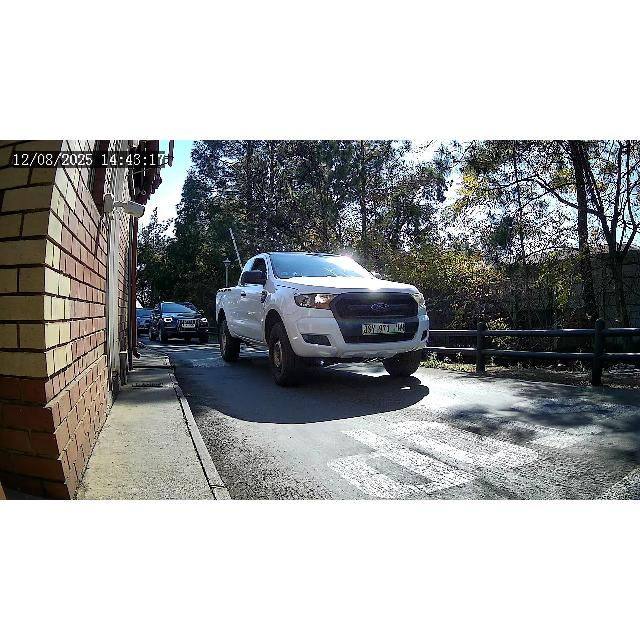car: (214, 251, 432, 391), (150, 302, 210, 346)
plate: (362, 323, 404, 335)
